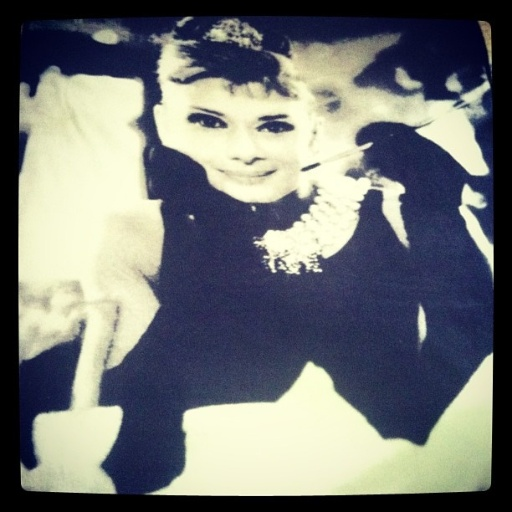hand: (79, 256, 156, 372), (354, 118, 467, 195)
